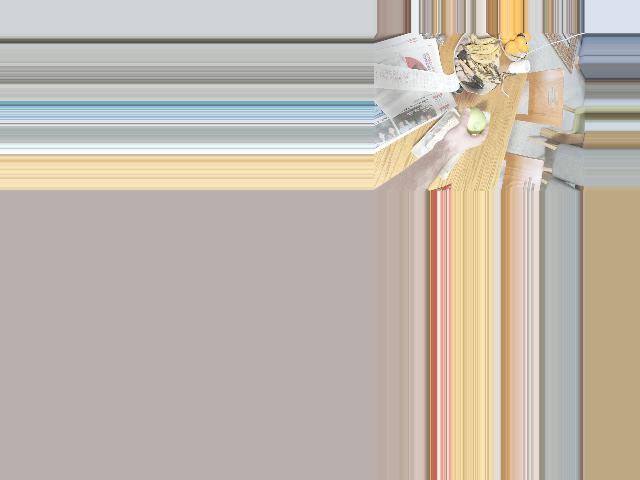apple: (459, 107, 487, 134)
